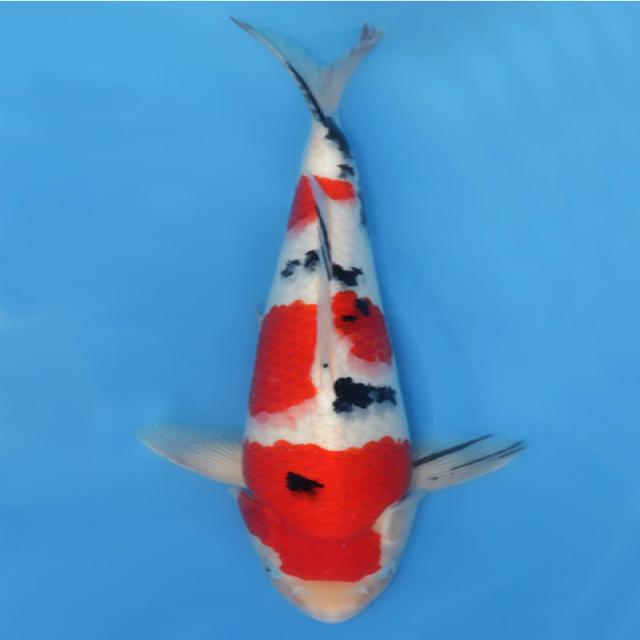Sanke: (137, 15, 526, 624)
